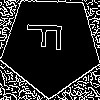F: (25, 20, 71, 52)
